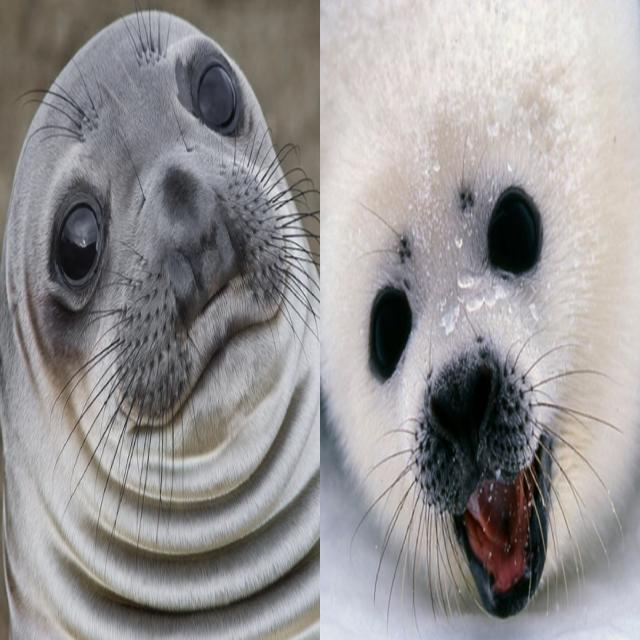WaterDog: (322, 4, 640, 619), (0, 5, 302, 640)
